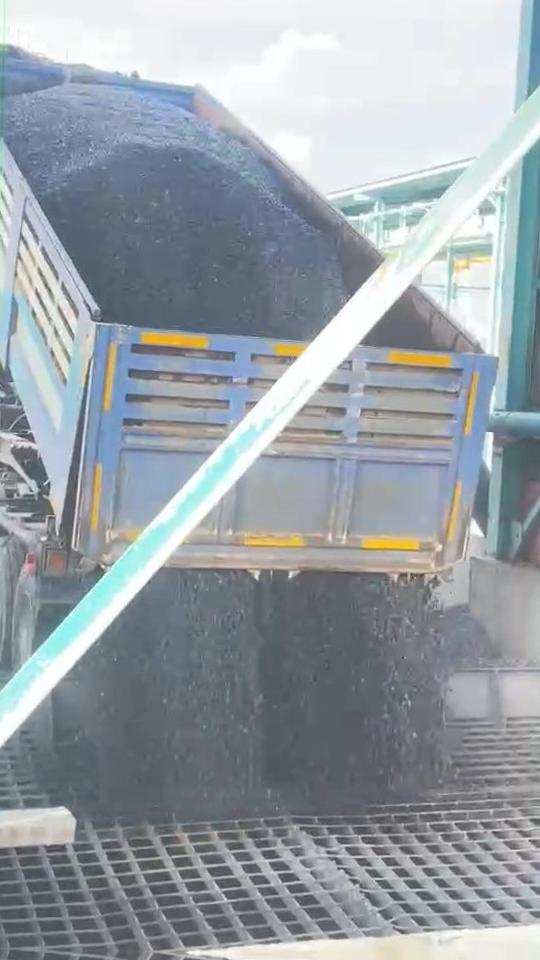gravel: (77, 570, 446, 818), (5, 85, 347, 338), (440, 606, 540, 671)
